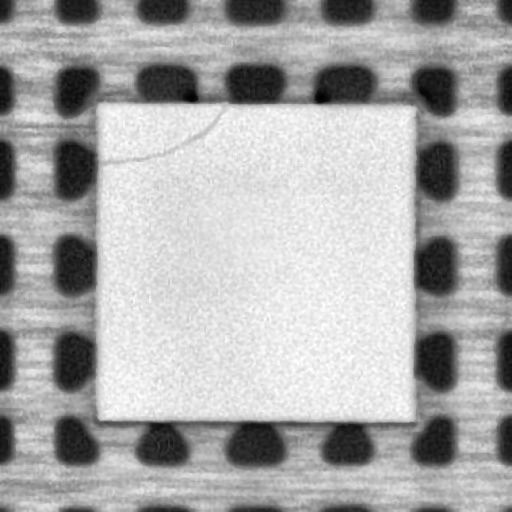DIE_CRACK: (99, 106, 233, 164)
